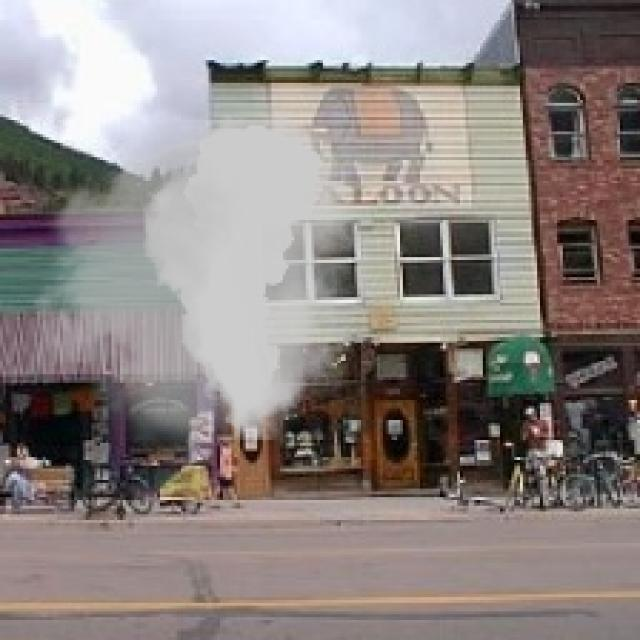smoke: (11, 100, 383, 463)
